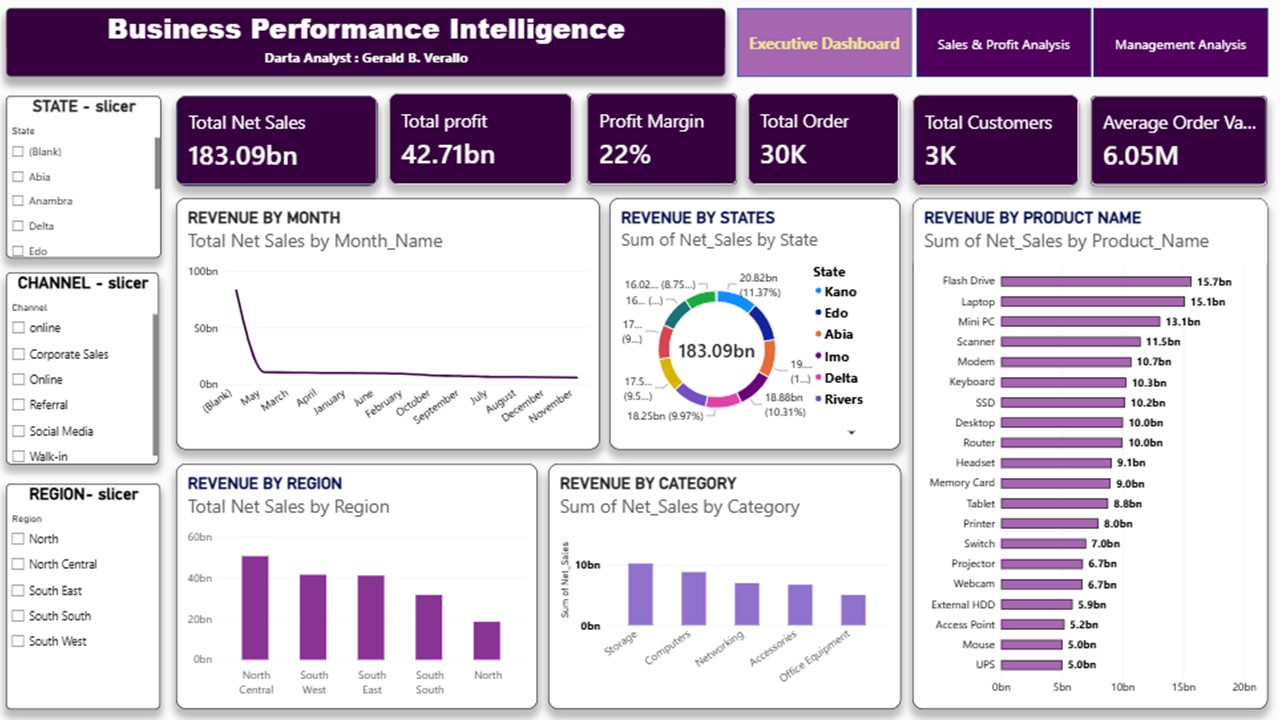

The page's visual inventory and layout, read from the dashboard file:
{"tool":"powerbi","page":{"name":"EXECUTIVE DASHBOARD","canvas":[1920,1080],"ordinal":0},"visuals":[{"type":"cardVisual","fields":{"Data":["Dim_Employees.Total Net Sales"]},"box":[274.3,149,298.1,133.9],"z":0},{"type":"cardVisual","fields":{"Data":["Sum(Fact_Sales.profit)"]},"box":[588.3,145,272.2,136.1],"z":1000},{"type":"cardVisual","fields":{"Data":["Dim_Employees.Total Order"]},"box":[1120,145,224.6,136.1],"z":2000},{"type":"cardVisual","fields":{"Data":["Dim_Employees.Total Customers"]},"box":[1363,146.9,246.2,136.1],"z":3000},{"type":"clusteredColumnChart","title":"REVENUE BY REGION","fields":{"Category":["Dim_Employees.Region"],"Y":["Dim_Employees.Total Net Sales"]},"box":[274.3,693.4,533.5,362.9],"z":4000},{"type":"clusteredColumnChart","title":"REVENUE BY CATEGORY","fields":{"Category":["Dim_Products.Category"],"Y":["Sum(Fact_Sales.Net_Sales)"]},"box":[825.1,693.4,520.6,362.9],"z":5000},{"type":"lineChart","title":"REVENUE BY MONTH","fields":{"Category":["Dim_Date.Month_Name"],"Y":["Dim_Employees.Total Net Sales"]},"box":[274.3,300.2,626.4,371.5],"z":6000},{"type":"clusteredBarChart","title":"REVENUE BY PRODUCT NAME","fields":{"Category":["Dim_Products.Product_Name"],"Y":["Sum(Fact_Sales.Net_Sales)"]},"box":[1363,300.2,524.9,756],"z":7000},{"type":"donutChart","title":"REVENUE BY STATES","fields":{"Category":["Dim_Customers.State"],"Y":["Sum(Fact_Sales.Net_Sales)"]},"box":[915.8,300.2,429.8,371.5],"z":8000},{"type":"slicer","title":"REGION- slicer","fields":{"Values":["Dim_Employees.Region"]},"box":[24,722,228,334],"z":9000},{"type":"slicer","title":"CHANNEL - slicer","fields":{"Values":["Fact_Sales.Channel"]},"box":[24,410,226,284],"z":10000},{"type":"shape","title":"Business Performance Intelligence","box":[23.8,19.4,1062.7,101.5],"z":11000},{"type":"cardVisual","fields":{"Data":["Fact_Sales.Overall margin"]},"box":[881.7,145,222.5,136.1],"z":12000},{"type":"slicer","title":"STATE - slicer","fields":{"Values":["Dim_Customers.State"]},"box":[23.8,148.8,229,239.8],"z":13000},{"type":"cardVisual","fields":{"Data":["KEY MEASURES.Average Order Value"]},"box":[1626.5,149,261.4,133.9],"z":14000},{"type":"shape","box":[1368,20,258,102],"z":15000},{"type":"shape","box":[1104,20,258,102],"z":16000},{"type":"shape","box":[1630,20,258,102],"z":17000}]}

Visuals, with their boxes in screenshot pixels (x1, y1, x2, y2), scaled from the page's 1920x1080 canvas onto the 1280x720 screenshot:
cardVisual - Dim_Employees.Total Net Sales: 183 99 382 189
cardVisual - Sum(Fact_Sales.profit): 392 97 574 187
cardVisual - Dim_Employees.Total Order: 747 97 896 187
cardVisual - Dim_Employees.Total Customers: 909 98 1073 189
"REVENUE BY REGION" clusteredColumnChart: 183 462 539 704
"REVENUE BY CATEGORY" clusteredColumnChart: 550 462 897 704
"REVENUE BY MONTH" lineChart: 183 200 600 448
"REVENUE BY PRODUCT NAME" clusteredBarChart: 909 200 1259 704
"REVENUE BY STATES" donutChart: 611 200 897 448
"REGION- slicer" slicer: 16 481 168 704
"CHANNEL - slicer" slicer: 16 273 167 463
"Business Performance Intelligence" shape: 16 13 724 81
cardVisual - Fact_Sales.Overall margin: 588 97 736 187
"STATE - slicer" slicer: 16 99 169 259
cardVisual - KEY MEASURES.Average Order Value: 1084 99 1259 189
shape: 912 13 1084 81
shape: 736 13 908 81
shape: 1087 13 1259 81
